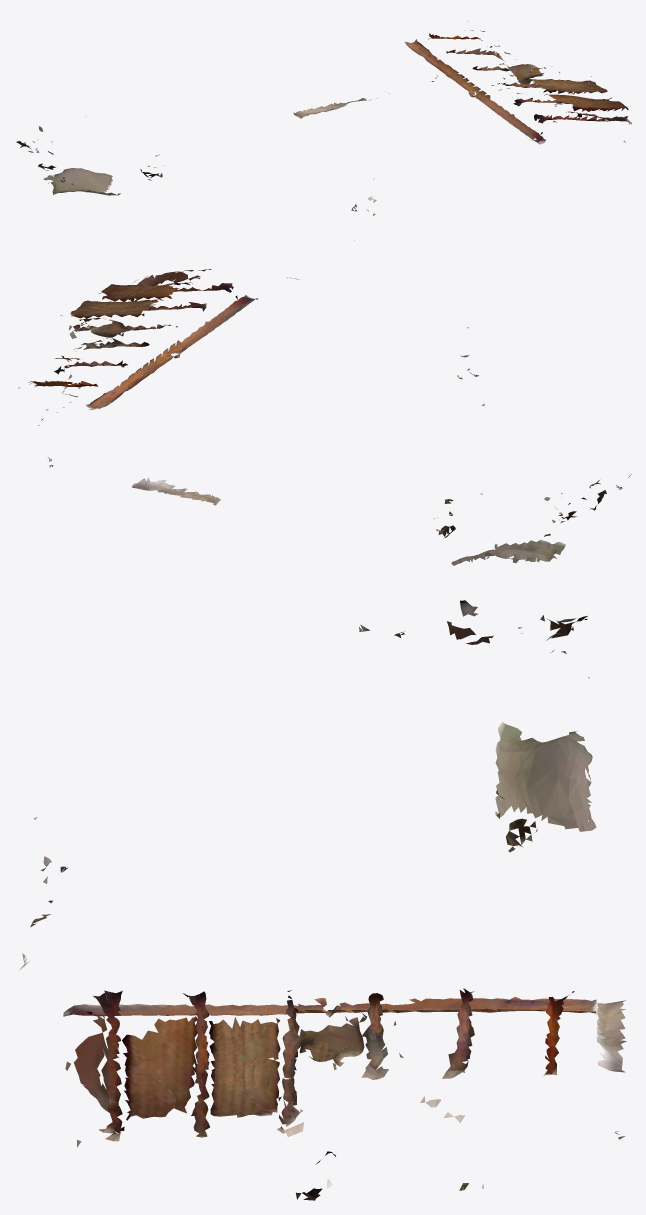
File: esc_baja_techo_04.glb
3 views of the same model, one above another, from view 1: azimuth 30°, elevation 25°; view 2: azimuth 150°, elevation 25°; view 3: azimuth 270°, elevation 25° (orthographic). The views are drawn at different scales.
Parts seen in each view (by area): view 1: techo_Salon_y_porche_4_GLTF_12, techo_Salon_y_porche_4_GLTF_10, techo_Salon_y_porche_4_GLTF_6, techo_Salon_y_porche_4_GLTF_5, techo_Salon_y_porche_4_GLTF_7, techo_Salon_y_porche_4_GLTF_11, techo_Salon_y_porche_4_GLTF_1, techo_Salon_y_porche_4_GLTF_13; view 2: techo_Salon_y_porche_4_GLTF_12, techo_Salon_y_porche_4_GLTF_10, techo_Salon_y_porche_4_GLTF_5, techo_Salon_y_porche_4_GLTF_13, techo_Salon_y_porche_4_GLTF_6, techo_Salon_y_porche_4_GLTF_1, techo_Salon_y_porche_4_GLTF_11, techo_Salon_y_porche_4_GLTF_7; view 3: techo_Salon_y_porche_4_GLTF_12, techo_Salon_y_porche_4_GLTF_10, techo_Salon_y_porche_4_GLTF_5, techo_Salon_y_porche_4_GLTF_13, techo_Salon_y_porche_4_GLTF_7, techo_Salon_y_porche_4_GLTF_6, techo_Salon_y_porche_4_GLTF_1, techo_Salon_y_porche_4_GLTF_4, techo_Salon_y_porche_4_GLTF_9, techo_Salon_y_porche_4_GLTF_11.
Boxes of the visible parts, x1,y1,x2,y2 form: techo_Salon_y_porche_4_GLTF_12: (16,45,619,240); techo_Salon_y_porche_4_GLTF_10: (99,41,631,195); techo_Salon_y_porche_4_GLTF_6: (373,104,627,215); techo_Salon_y_porche_4_GLTF_5: (141,21,590,177); techo_Salon_y_porche_4_GLTF_7: (38,30,501,130); techo_Salon_y_porche_4_GLTF_11: (24,39,501,182); techo_Salon_y_porche_4_GLTF_1: (293,45,512,211); techo_Salon_y_porche_4_GLTF_13: (140,56,559,180); techo_Salon_y_porche_4_GLTF_12: (49,271,631,565); techo_Salon_y_porche_4_GLTF_10: (70,283,600,549); techo_Salon_y_porche_4_GLTF_5: (18,308,455,536); techo_Salon_y_porche_4_GLTF_13: (29,277,518,563); techo_Salon_y_porche_4_GLTF_6: (132,272,458,377); techo_Salon_y_porche_4_GLTF_1: (38,354,475,505); techo_Salon_y_porche_4_GLTF_11: (85,324,622,517); techo_Salon_y_porche_4_GLTF_7: (38,269,548,500); techo_Salon_y_porche_4_GLTF_12: (19,619,624,1140); techo_Salon_y_porche_4_GLTF_10: (99,783,596,1141); techo_Salon_y_porche_4_GLTF_5: (238,790,619,1188); techo_Salon_y_porche_4_GLTF_13: (24,746,587,1122); techo_Salon_y_porche_4_GLTF_7: (367,618,576,1070); techo_Salon_y_porche_4_GLTF_6: (30,900,266,1147); techo_Salon_y_porche_4_GLTF_1: (40,856,626,1188); techo_Salon_y_porche_4_GLTF_4: (191,841,518,1190); techo_Salon_y_porche_4_GLTF_9: (86,615,589,1017); techo_Salon_y_porche_4_GLTF_11: (288,600,596,1025).
Size of the model in its own units: 10.83 by 1.5 by 5.65.
Materials: 14 (14 with a texture image).
